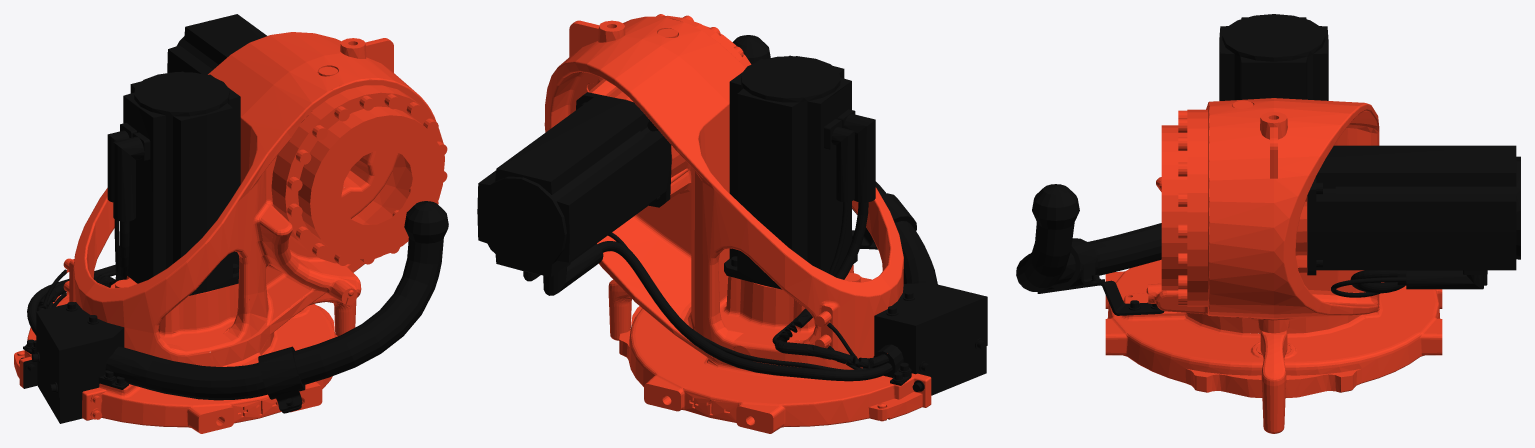
3 views of the same model, side by side, from view 1: azimuth 30°, elevation 25°; view 2: azimuth 150°, elevation 25°; view 3: azimuth 270°, elevation 25° (orthographic). The views are drawn at different scales.
Visible parts, largest first — view 1: link_1; view 2: link_1; view 3: link_1.
Boxes of the visible parts, x1=… form: link_1: x1=14, y1=14, x2=448, y2=433; link_1: x1=477, y1=14, x2=987, y2=433; link_1: x1=1016, y1=14, x2=1520, y2=433.
Bounding box in the file's own units: 0.5478 × 0.573 × 0.3974.
